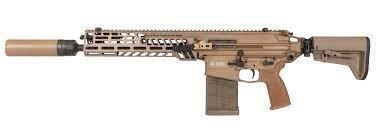larga: (5, 26, 371, 116)
